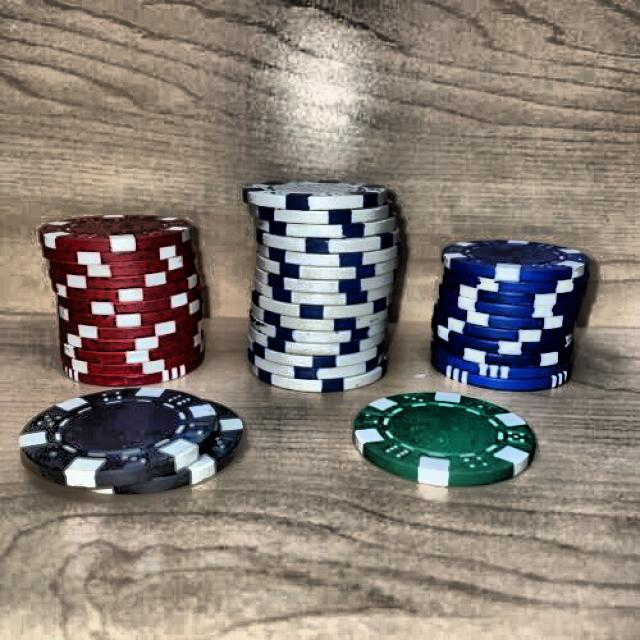Chip: (238, 174, 408, 394), (32, 209, 214, 392), (3, 381, 264, 502), (428, 229, 602, 395), (345, 382, 545, 492)
